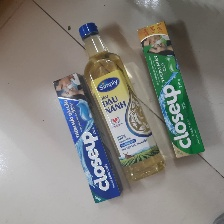CloseUp Tuyet: (51, 72, 123, 204)
CloseUp Xanh: (137, 21, 206, 161)
Simply: (79, 21, 165, 185)
